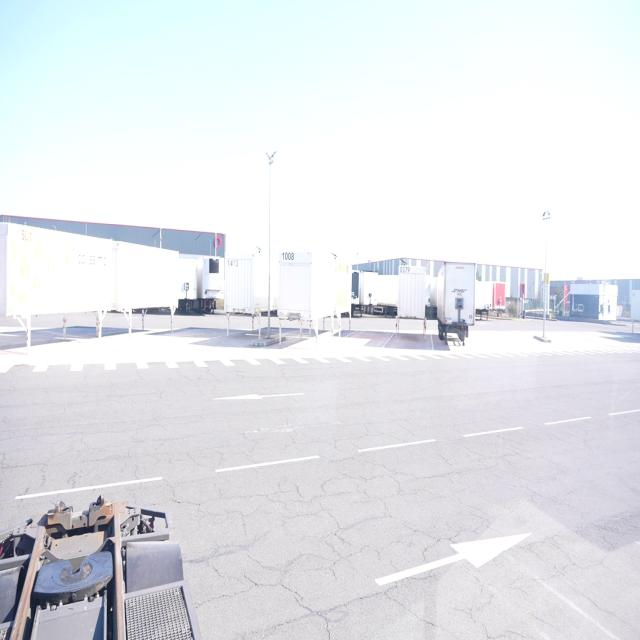Code: (281, 246, 303, 266), (227, 259, 241, 272), (397, 265, 413, 276)
